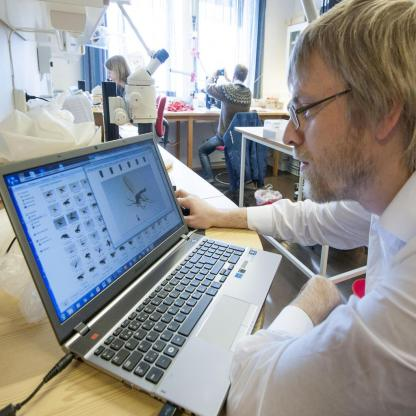board: (0, 132, 282, 416), (68, 86, 79, 96)
